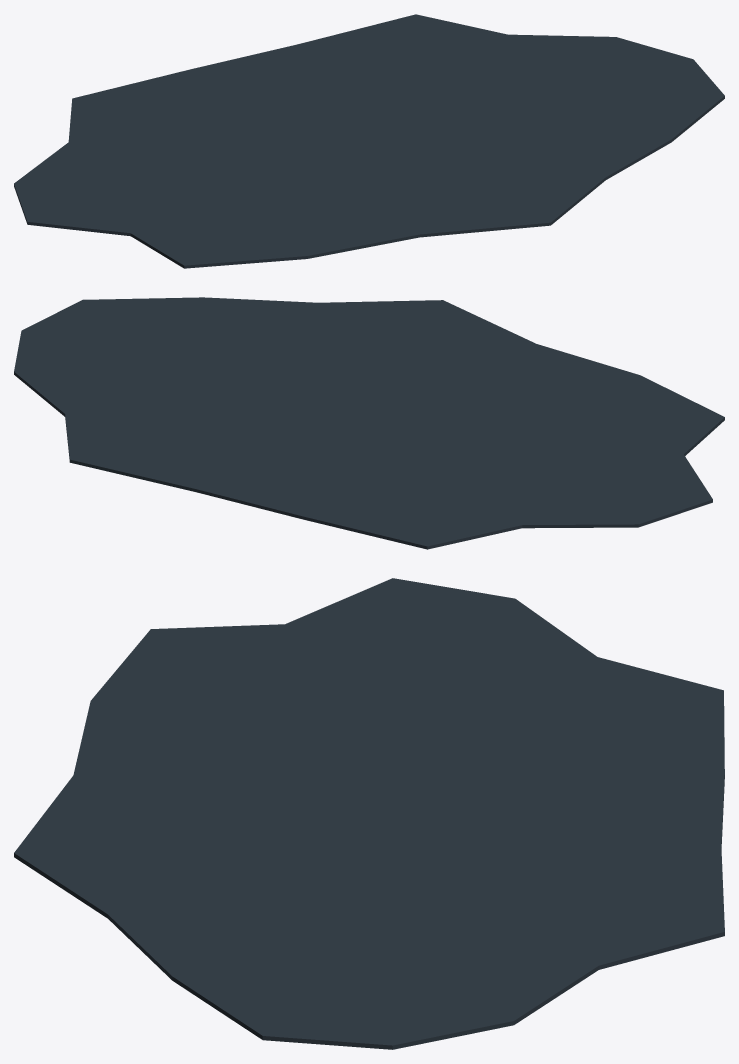
File: bit_puddle.glb
3 views of the same model, one above another, from view 1: azimuth 30°, elevation 25°; view 2: azimuth 150°, elevation 25°; view 3: azimuth 270°, elevation 25° (orthographic). The views are drawn at different scales.
Parts seen in each view (by area): view 1: Water_Mesh; view 2: Water_Mesh; view 3: Water_Mesh.
Part boxes in pixels (x1,y1,x2,y2): Water_Mesh: [14, 14, 724, 268]; Water_Mesh: [14, 297, 724, 549]; Water_Mesh: [14, 578, 724, 1049].
Bounding box in the file's own units: 1.4 × 0.006 × 0.9.
